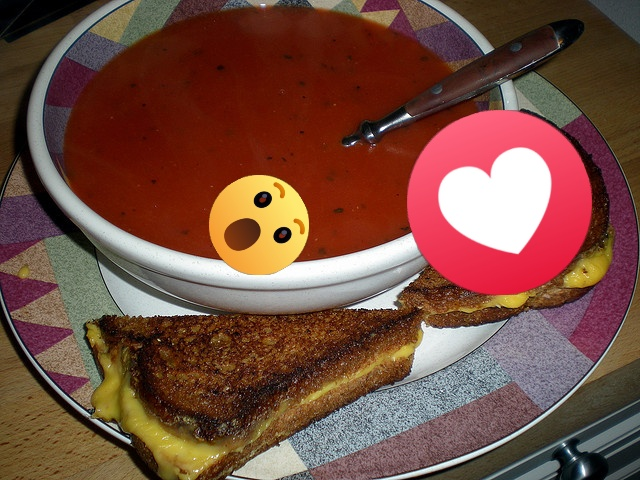love: (407, 110, 592, 295)
wow: (209, 175, 309, 275)
